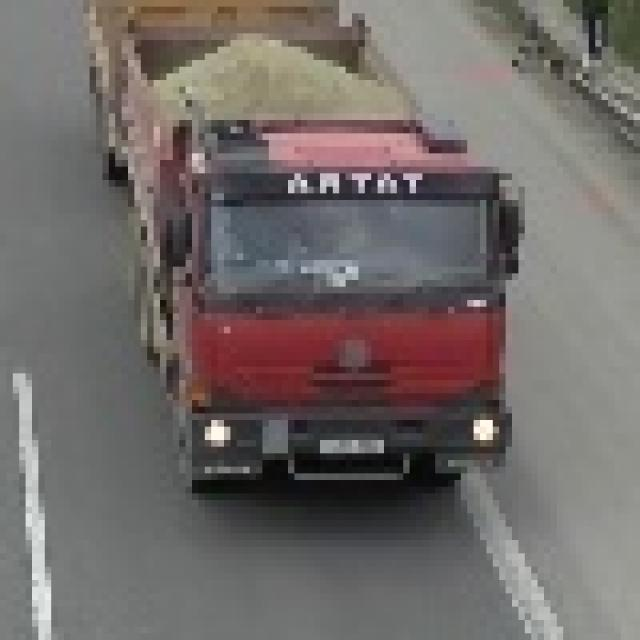truck: (77, 0, 518, 500)
